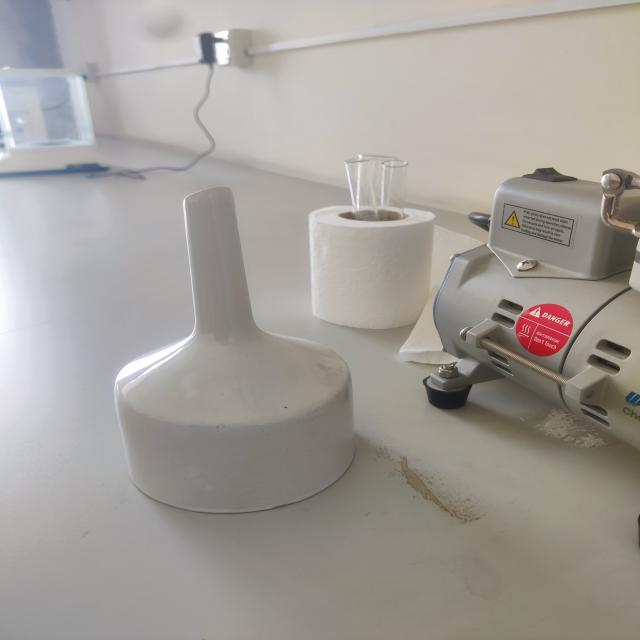Buchner_Funnel: (86, 163, 381, 536)
